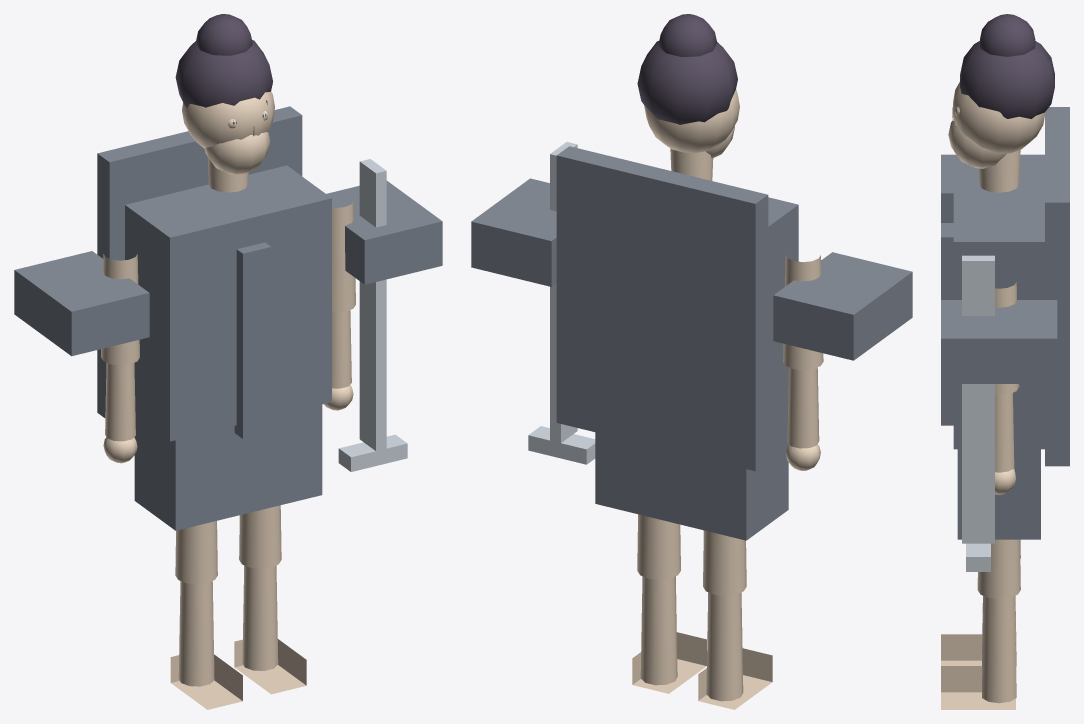
File: body.glb
3 renders of one model, left to right at view 1: azimuth 30°, elevation 25°; view 2: azimuth 150°, elevation 25°; view 3: azimuth 270°, elevation 25°, orthographic. The views are drawn at different scales.
Parts seen in each view (by area): view 1: Cloth, Skin, Metal, Hair; view 2: Cloth, Skin, Hair, Metal; view 3: Cloth, Skin, Metal, Hair.
Boxes of the visible parts, x1,y1,x2,y2 form: Cloth: (14, 106, 442, 530); Skin: (101, 91, 355, 709); Metal: (338, 159, 407, 471); Hair: (175, 14, 272, 107); Cloth: (471, 146, 912, 540); Skin: (632, 89, 823, 709); Hair: (637, 14, 737, 124); Metal: (528, 142, 595, 464); Cloth: (941, 107, 1069, 539); Skin: (941, 82, 1045, 709); Metal: (962, 255, 994, 571); Hair: (960, 14, 1054, 118).
Size of the model in its own units: 1.05 by 1.77 by 0.31.
